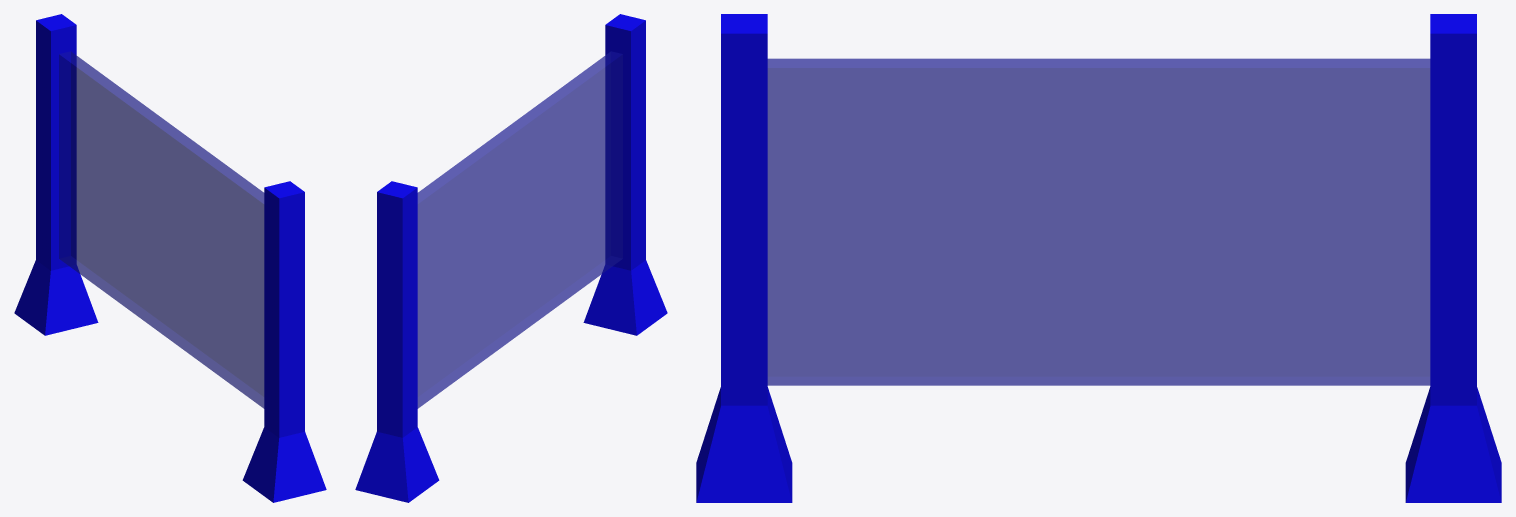
File: Portal.glb
3 renders of one model, left to right at view 1: azimuth 30°, elevation 25°; view 2: azimuth 150°, elevation 25°; view 3: azimuth 270°, elevation 25°, orthographic. The views are drawn at different scales.
Visible parts, largest first — view 1: Cube.002; view 2: Cube.002; view 3: Cube.002.
Boxes of the visible parts, x1,y1,x2,y2 form: Cube.002: (14, 14, 326, 502); Cube.002: (355, 14, 667, 502); Cube.002: (696, 14, 1501, 502).
Size of the model in its own units: 1.08 by 5.7 by 9.06.
